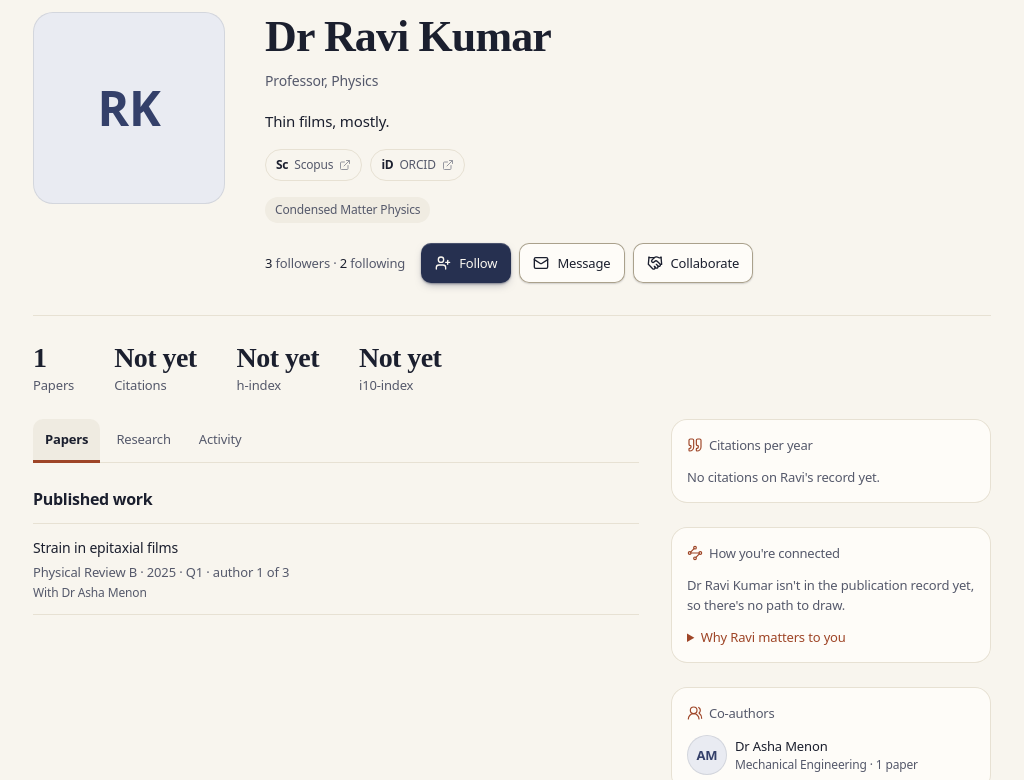
Scenario: PublicProfile › follows at once
The width and height of the screenshot is (1024, 780).
Click the button "Follow" at {"x": 466, "y": 263}, box [421,243,511,283]
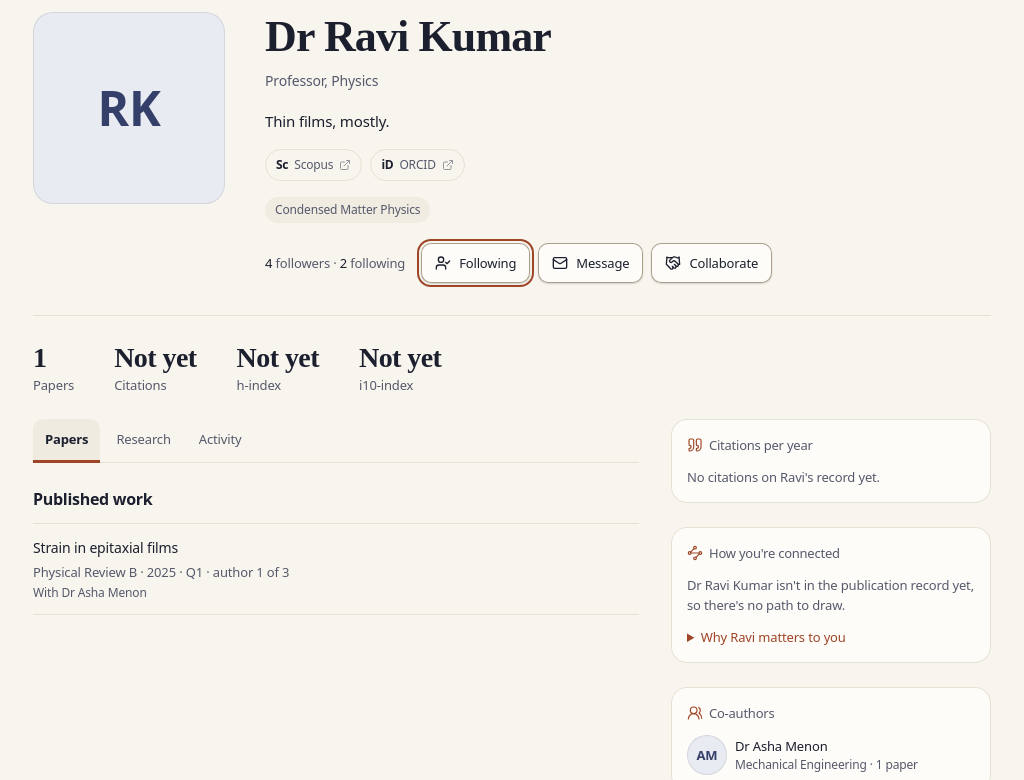
Expected: the button "Following" is shown, [421,243,530,283]
Expected: the text "4" is shown, [265,254,272,272]
